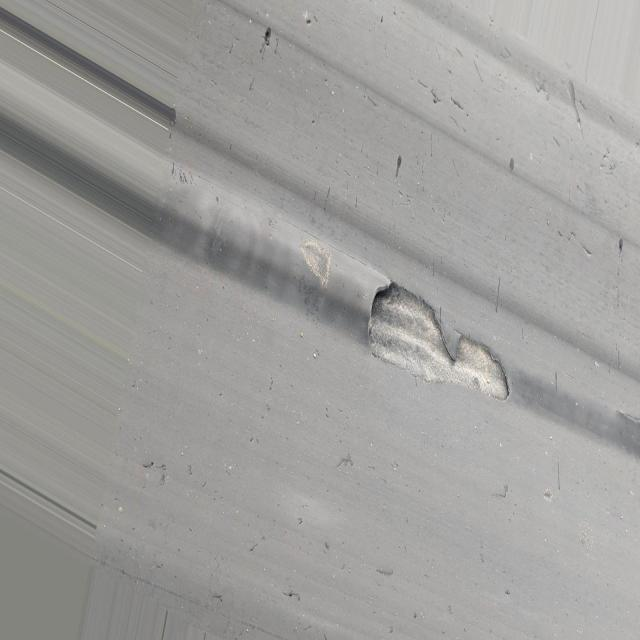Impact Damage: (364, 259, 516, 403)
